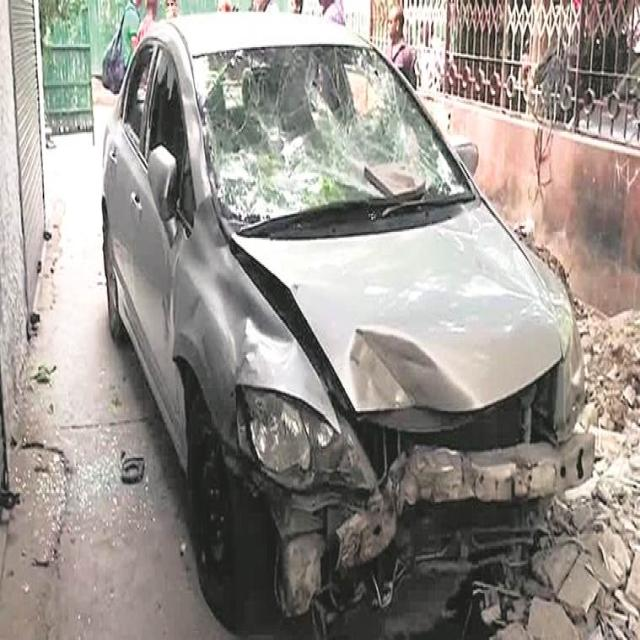accident: (102, 16, 594, 635)
